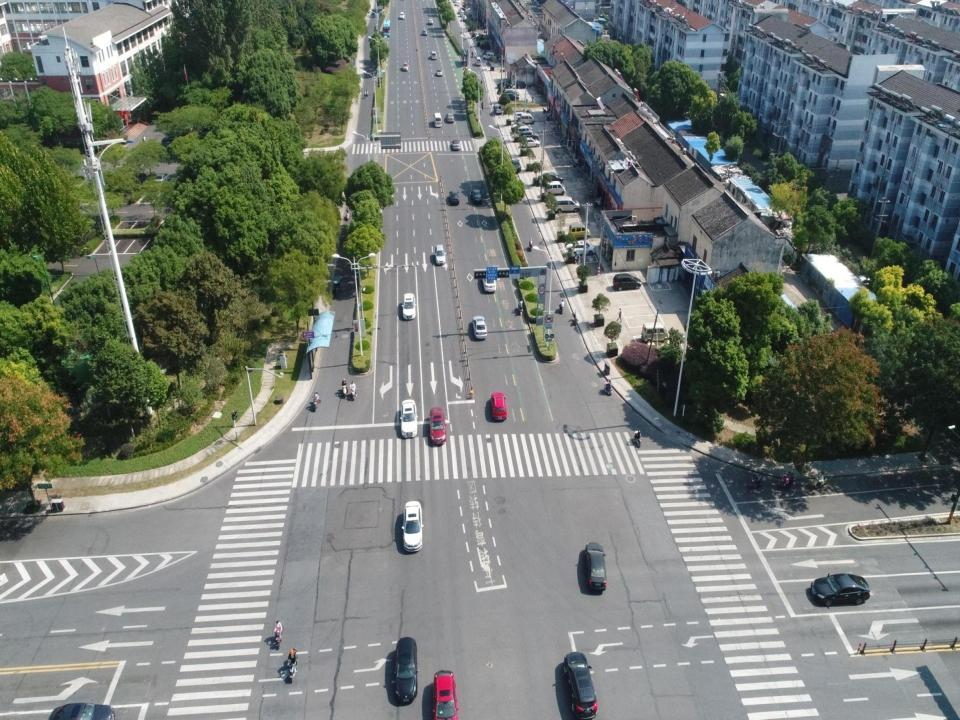bus: (382, 19, 391, 38)
car: (563, 650, 598, 719), (810, 571, 870, 608), (396, 635, 419, 703), (47, 698, 115, 719), (434, 668, 460, 720), (582, 540, 608, 592), (400, 500, 423, 552), (428, 407, 447, 445), (401, 397, 418, 439), (489, 391, 509, 421), (613, 273, 641, 291), (565, 240, 596, 256), (470, 314, 487, 341), (403, 290, 415, 320), (434, 244, 445, 265), (541, 172, 563, 182), (518, 138, 540, 148), (518, 130, 539, 140), (470, 188, 482, 204), (511, 158, 522, 172), (449, 190, 459, 205), (515, 111, 530, 121), (515, 80, 530, 90), (451, 138, 461, 151), (504, 92, 520, 100), (503, 89, 519, 97), (496, 81, 512, 89), (494, 103, 503, 114), (447, 112, 454, 124), (402, 62, 409, 72), (435, 67, 442, 77), (427, 18, 434, 26), (400, 10, 406, 18), (422, 28, 428, 35), (461, 14, 467, 21), (455, 0, 460, 6)
truck: (433, 112, 442, 127)
van: (640, 323, 670, 343), (551, 195, 580, 212), (568, 224, 590, 239), (544, 180, 565, 195), (520, 113, 535, 124), (516, 126, 532, 136), (483, 52, 496, 60), (430, 51, 437, 60), (475, 56, 481, 66)
